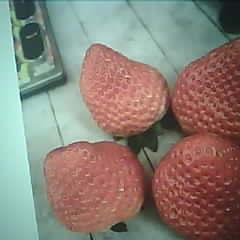straw-ripe: (43, 142, 144, 232), (79, 42, 168, 136)
